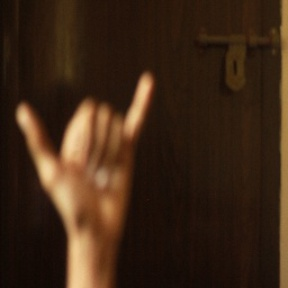J: (17, 70, 156, 233)
